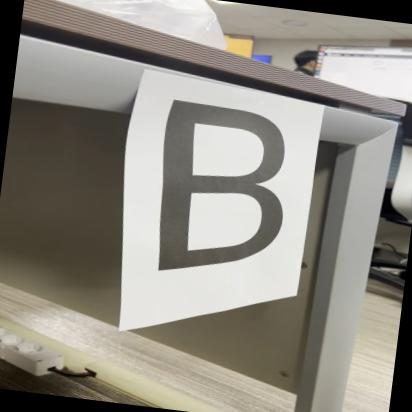seat: (156, 88, 306, 290)
